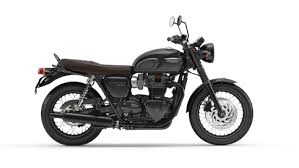motorcycle: (34, 10, 254, 151)
